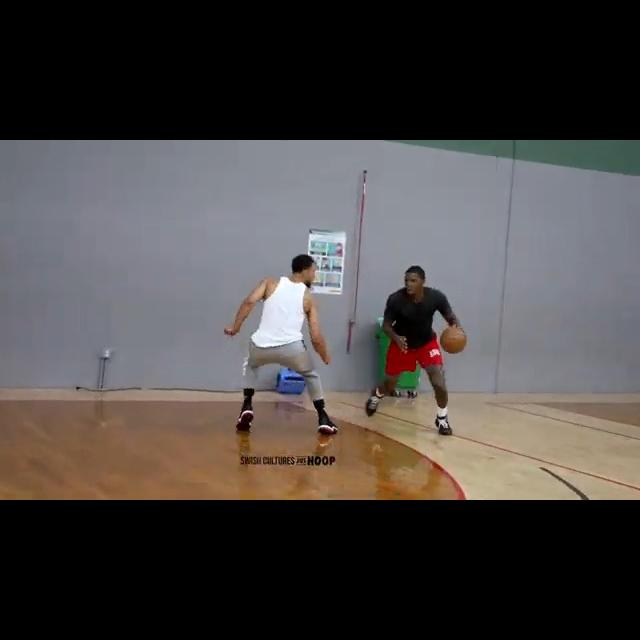basketball: (440, 325, 468, 354)
